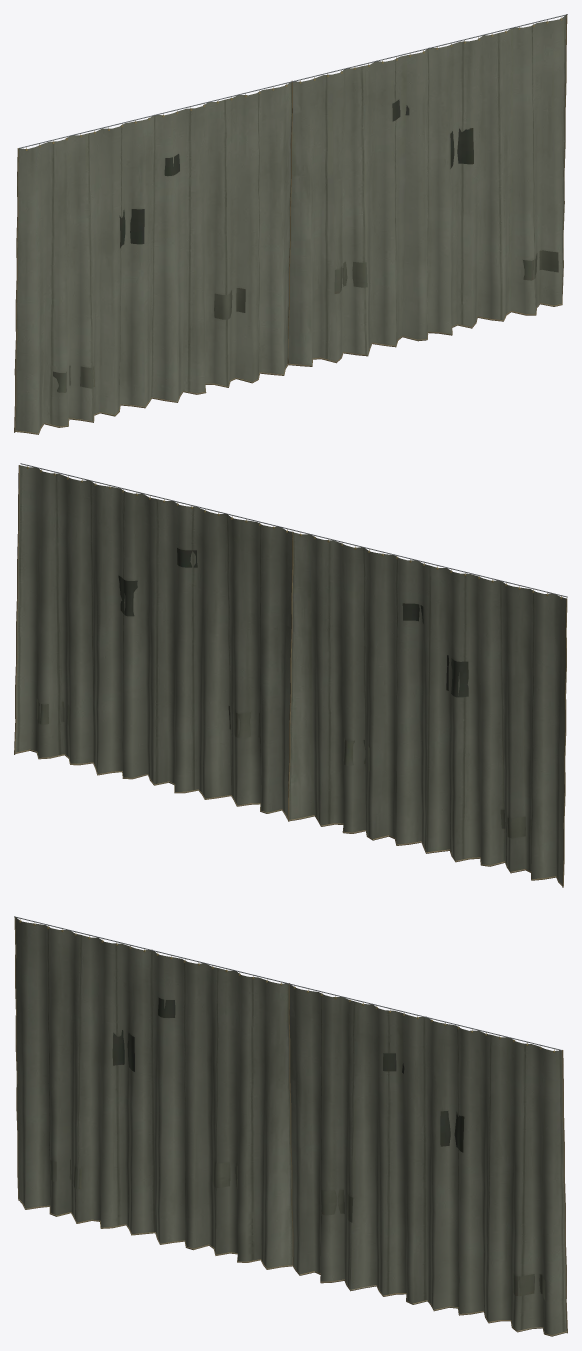
File: tarpaulin_curtain.glb
3 renders of one model, top to bottom at view 1: azimuth 30°, elevation 25°; view 2: azimuth 150°, elevation 25°; view 3: azimuth 330°, elevation 25°, orthographic.
Parts seen in each view (by area): view 1: curtain_r, curtain_l; view 2: curtain_l, curtain_r; view 3: curtain_r, curtain_l.
Part boxes in pixels (x1=…): curtain_r: x1=287, y1=14, x2=567, y2=366; curtain_l: x1=14, y1=80, x2=293, y2=434; curtain_l: x1=288, y1=530, x2=567, y2=887; curtain_r: x1=14, y1=463, x2=293, y2=819; curtain_r: x1=287, y1=983, x2=567, y2=1336; curtain_l: x1=14, y1=916, x2=293, y2=1269.
Size of the model in its own units: 26.06 by 13.05 by 1.09.
1 material, 1 textured.
